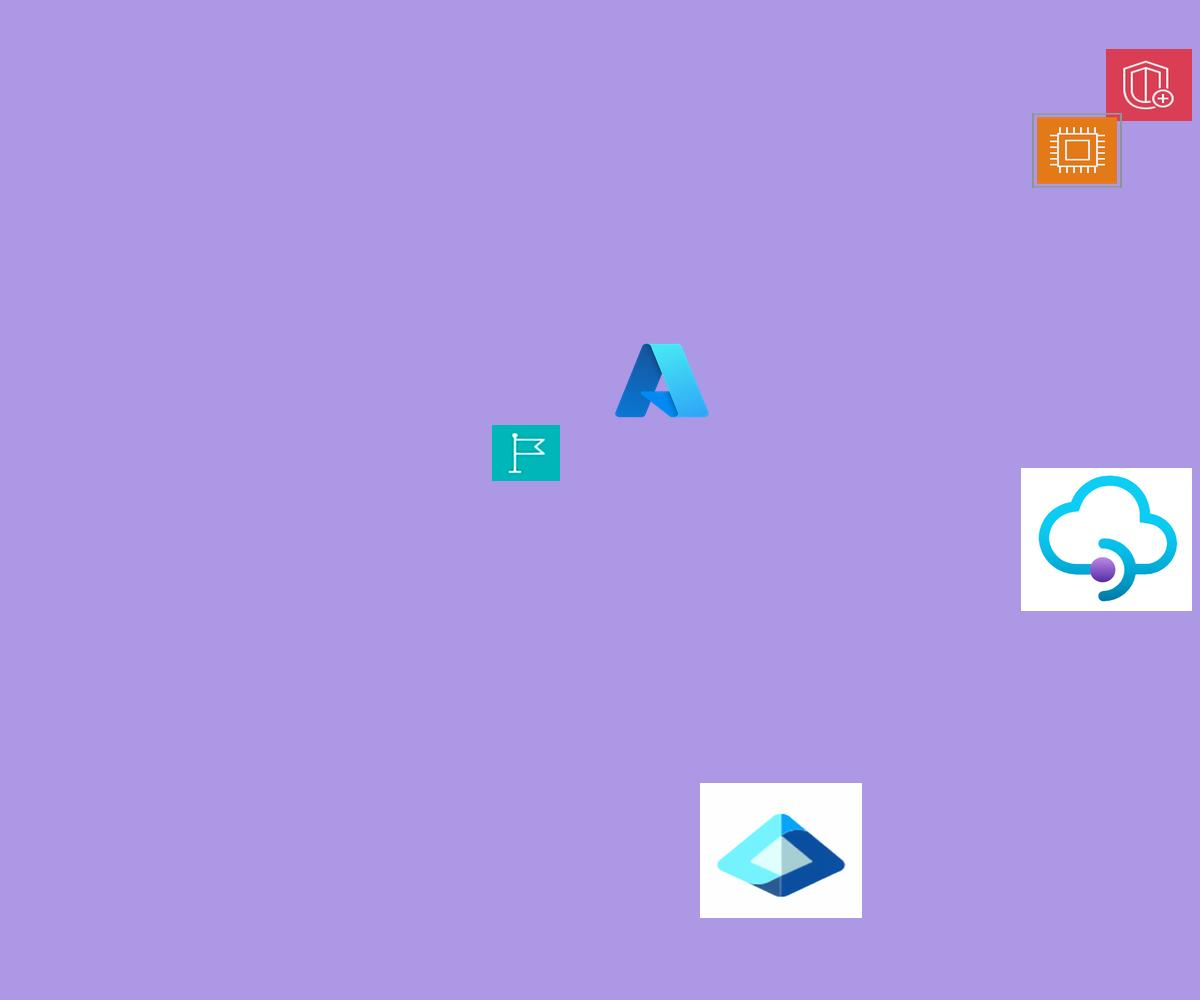AWS-Category_Compute: (1032, 113, 1122, 188)
AWS-Region: (492, 425, 560, 481)
AWS-Shield: (1106, 49, 1192, 121)
Azure_api_gateway: (1021, 468, 1192, 611)
Azure_microsoft_entra: (700, 783, 862, 918)
Azure_services: (611, 338, 713, 423)
